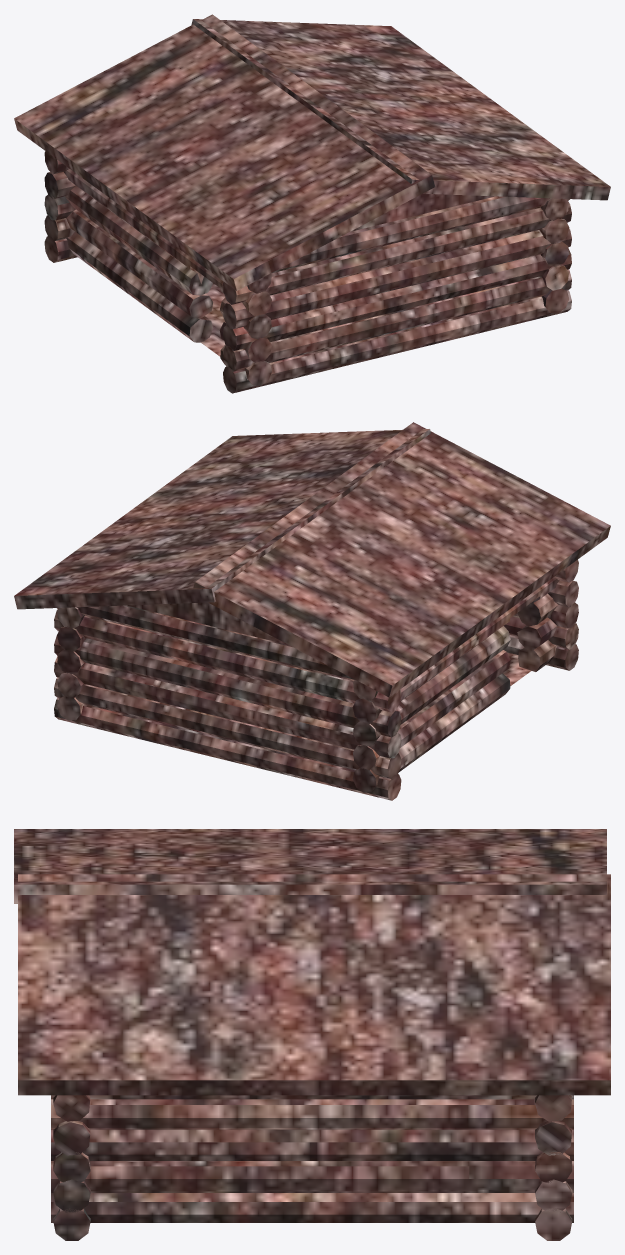
File: WoodenHouse.FBX
3 views of the same model, one above another, from view 1: azimuth 30°, elevation 25°; view 2: azimuth 150°, elevation 25°; view 3: azimuth 270°, elevation 25° (orthographic). The views are drawn at different scales.
Visible parts, largest first — view 1: Box02; view 2: Box02; view 3: Box02.
Part boxes in pixels (bbox=[...]): Box02: bbox=[14, 14, 610, 393]; Box02: bbox=[14, 422, 610, 800]; Box02: bbox=[14, 829, 610, 1240].
Size of the model in its own units: 313 by 317 by 149.
